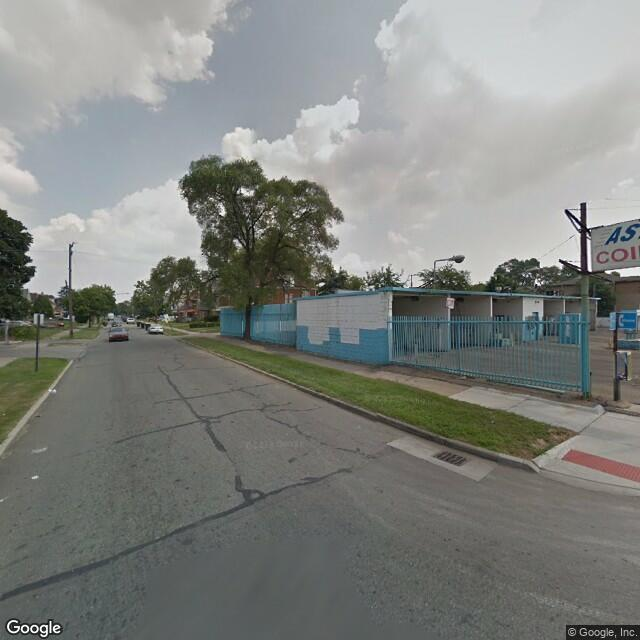litter: (26, 443, 55, 457), (43, 387, 62, 396), (31, 473, 43, 482), (1, 493, 8, 502)
